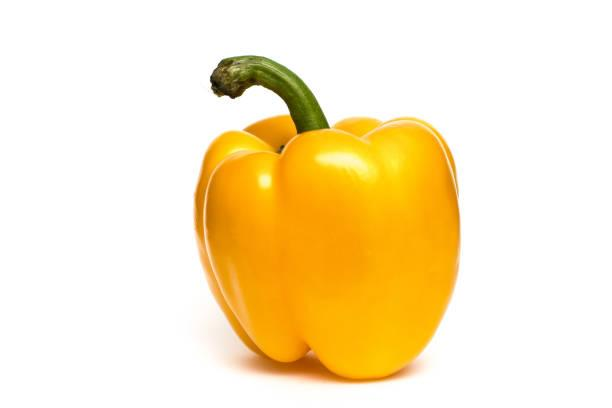Capsicum: (195, 57, 457, 378)
